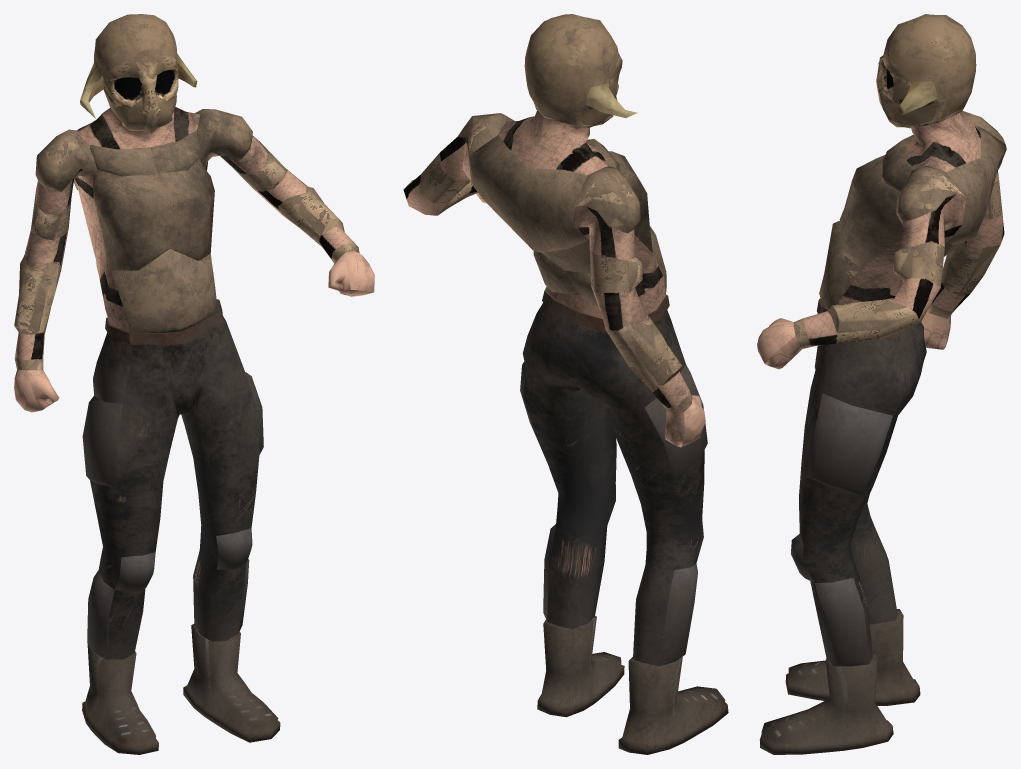
File: Anim_recibirdanyo_npc1.0024.obj
The picture shows the model from 3 angles, left to right: view 1: azimuth 30°, elevation 25°; view 2: azimuth 150°, elevation 25°; view 3: azimuth 270°, elevation 25°; orthographic projection. The views are drawn at different scales.
Visible parts, largest first — view 1: NPC2; view 2: NPC2; view 3: NPC2.
Part boxes in pixels (x1,y1,x2,y2): NPC2: (14,14,374,754); NPC2: (403,14,728,754); NPC2: (757,14,1006,754).
Size of the model in its own units: 4.11 by 9.36 by 3.01.
